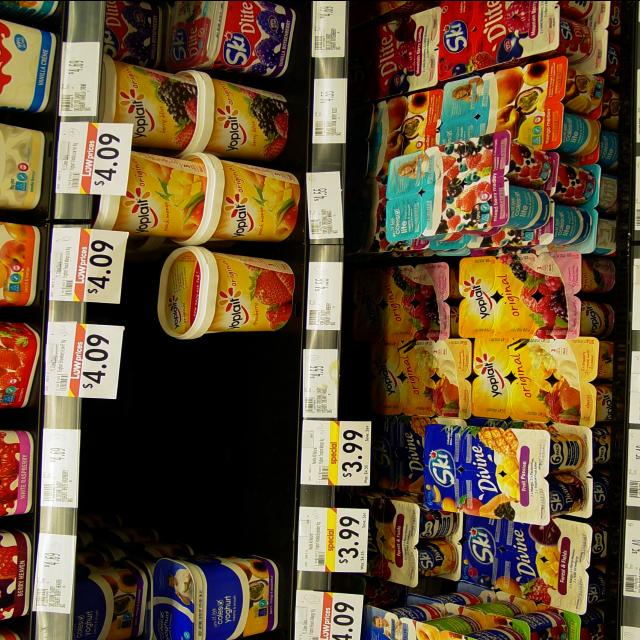empty_space: (115, 359, 277, 517)
